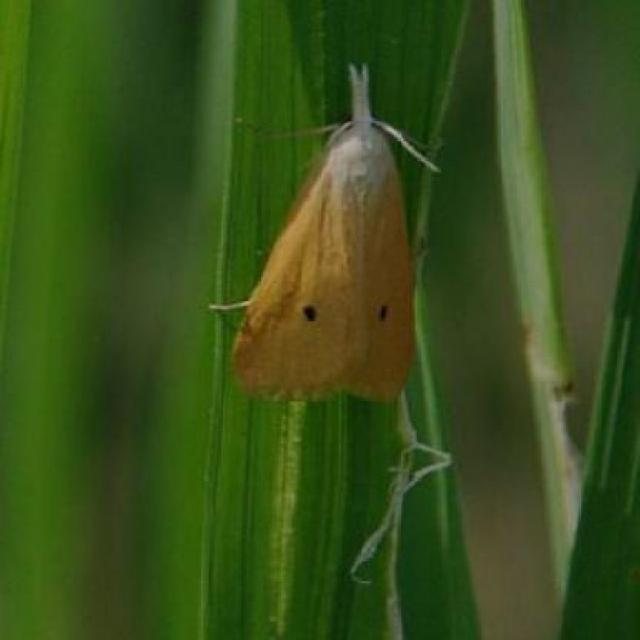stem-borer: (213, 63, 444, 402)
